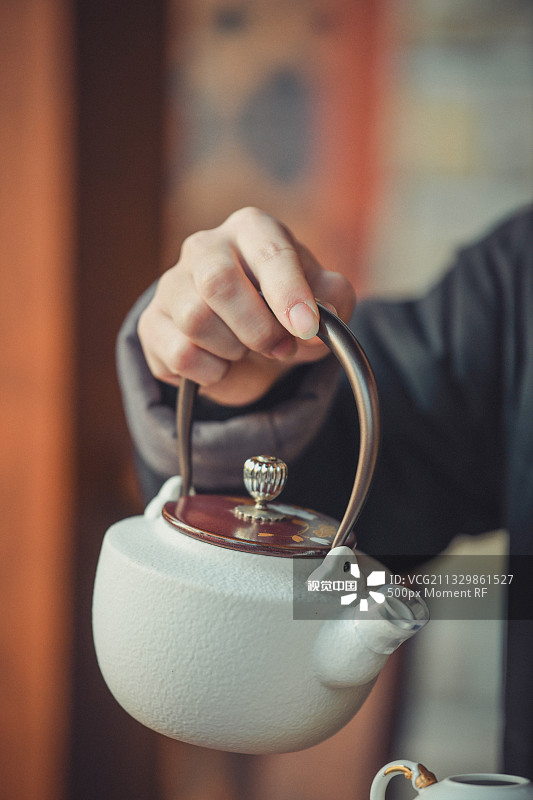no-phone: (114, 185, 384, 416)
